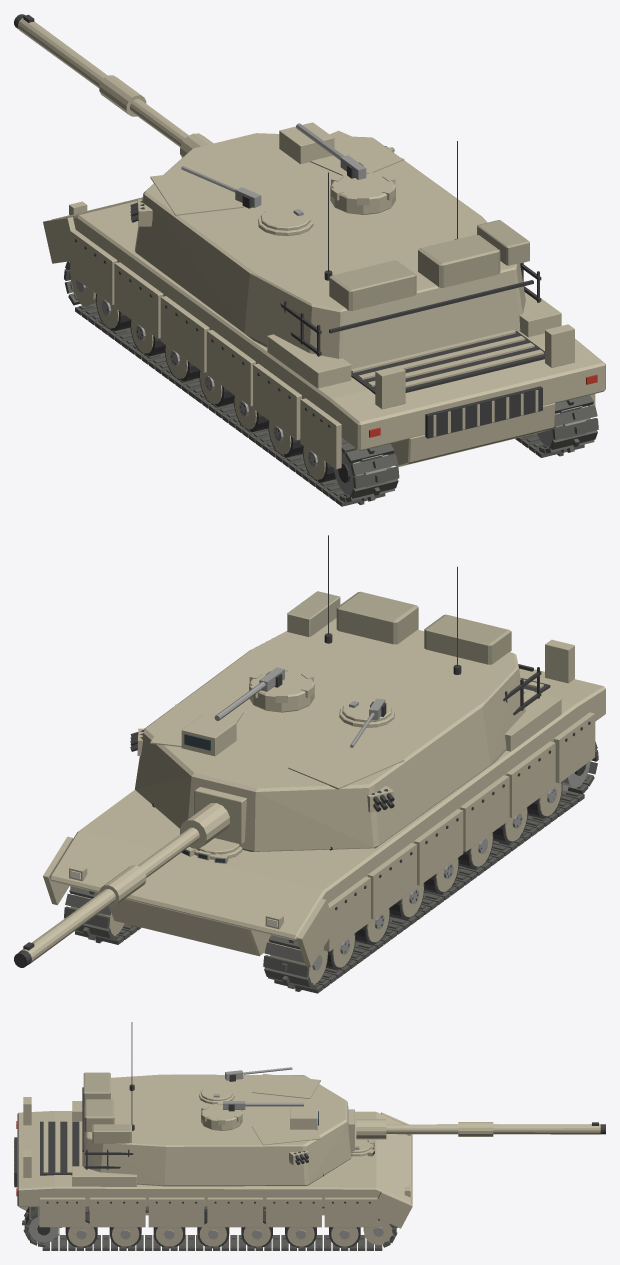
Rendered from usa_mbt_a1.glb.
3 views of the same model, one above another, from view 1: azimuth 30°, elevation 25°; view 2: azimuth 150°, elevation 25°; view 3: azimuth 270°, elevation 25° (orthographic). The views are drawn at different scales.
Parts seen in each view (by area): view 1: turret, body, barrel; view 2: turret, body, barrel; view 3: body, turret, barrel.
Boxes of the visible parts, bbox=[...] form: turret: bbox=[130, 122, 541, 369]; body: bbox=[43, 197, 605, 506]; barrel: bbox=[14, 14, 213, 157]; turret: bbox=[130, 535, 541, 851]; body: bbox=[43, 639, 605, 993]; barrel: bbox=[14, 803, 229, 967]; body: bbox=[14, 1097, 412, 1250]; turret: bbox=[82, 1022, 354, 1186]; barrel: bbox=[356, 1119, 605, 1139].
Bounding box in the file's own units: 3.88 × 3.85 × 11.88.
